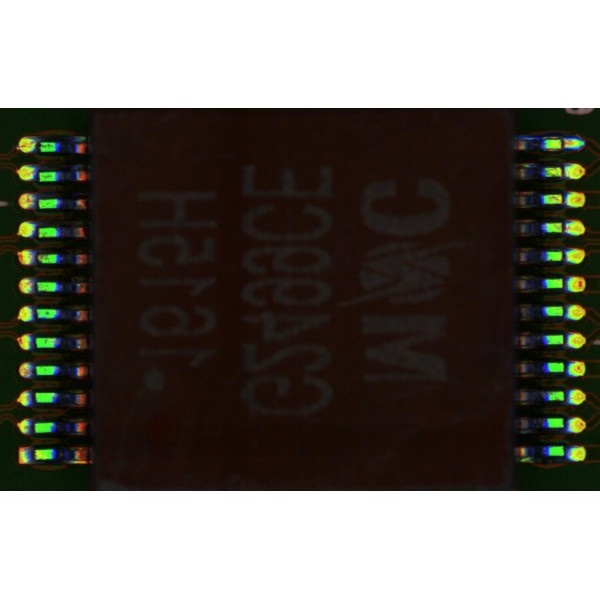Bad_podu: (551, 140, 576, 147)
